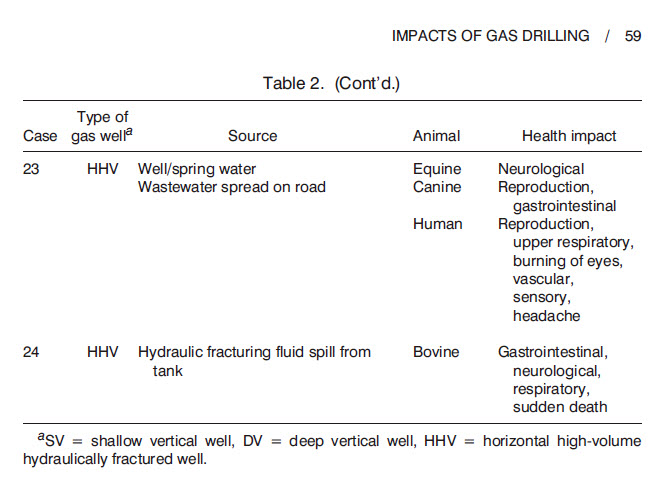fracking table: (5, 71, 657, 433)
